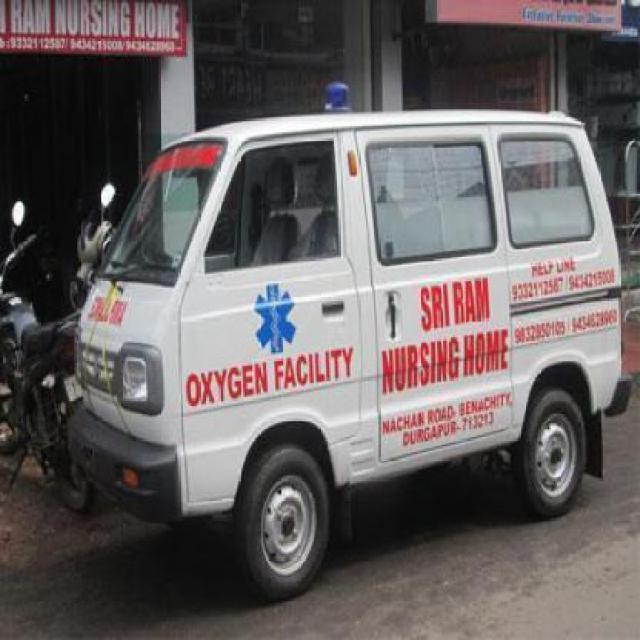Ambulance: (62, 87, 630, 604), (0, 352, 638, 638)
